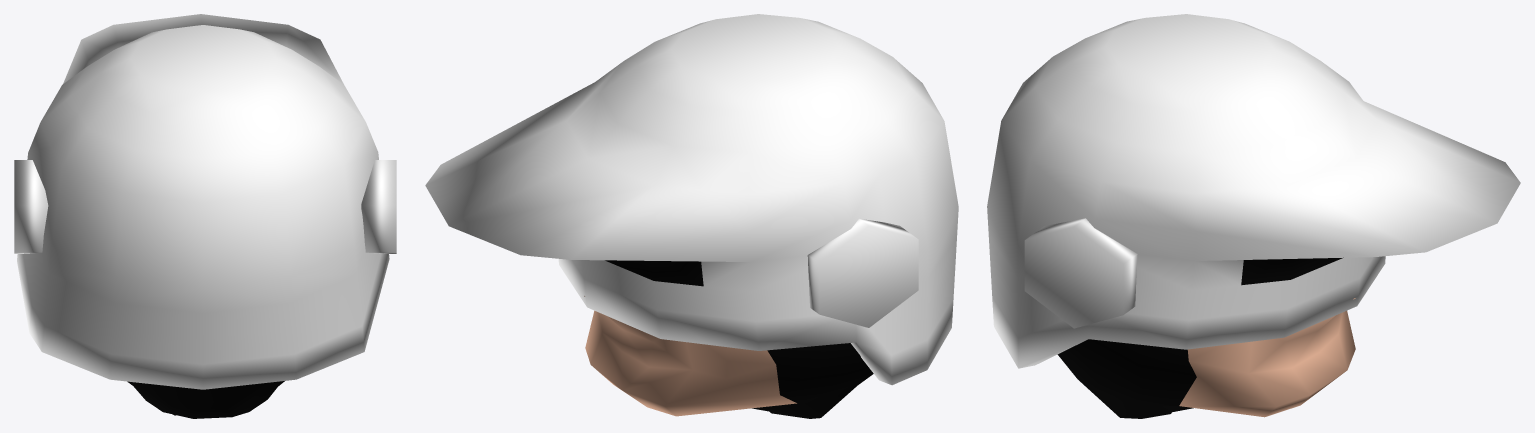
The model's file is head.glb.gltf.
3 renders of one model, left to right at view 1: azimuth 30°, elevation 25°; view 2: azimuth 150°, elevation 25°; view 3: azimuth 270°, elevation 25°, orthographic. The views are drawn at different scales.
Parts seen in each view (by area): view 1: helmet, ear, head; view 2: helmet, head, ear; view 3: helmet, head, ear.
Part boxes in pixels (bbox=[...]): helmet: bbox=[17, 14, 389, 389]; ear: bbox=[14, 160, 396, 253]; head: bbox=[127, 381, 284, 418]; helmet: bbox=[425, 14, 958, 385]; head: bbox=[584, 296, 873, 418]; ear: bbox=[807, 218, 918, 327]; helmet: bbox=[987, 14, 1520, 368]; head: bbox=[1057, 298, 1355, 418]; ear: bbox=[1024, 218, 1137, 328].
Bounding box in the file's own units: 4.13 × 3.61 × 4.73.
